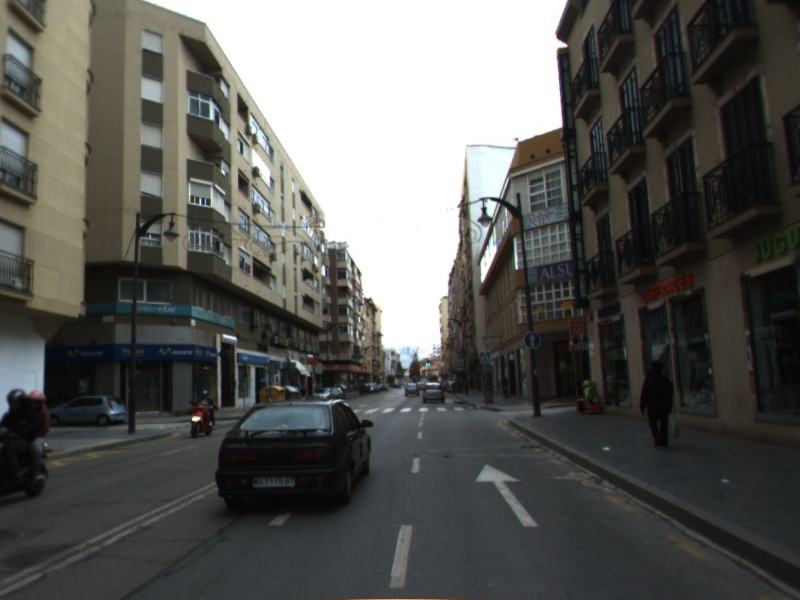STRAIGHT: (471, 460, 543, 530)
